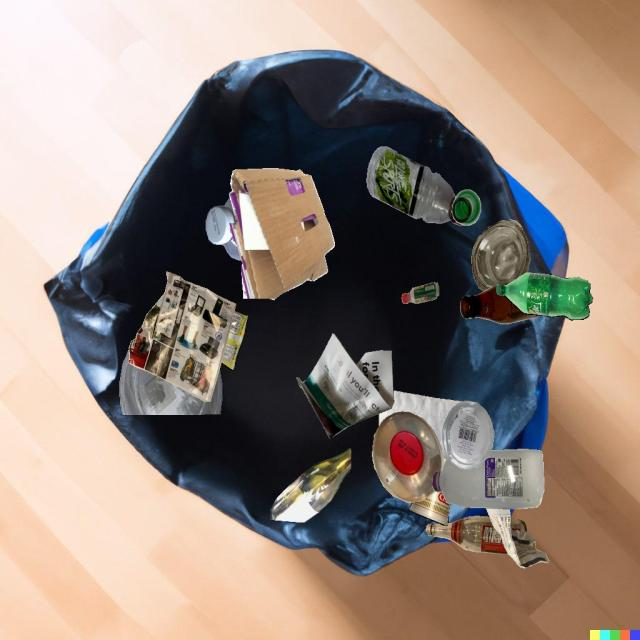cardboard: (229, 168, 335, 299)
glass: (270, 448, 351, 522), (471, 220, 531, 291), (460, 282, 540, 324), (426, 516, 509, 555), (452, 189, 481, 225)
paper: (128, 271, 236, 402), (296, 334, 394, 439), (379, 391, 462, 459), (486, 508, 549, 568), (270, 299, 275, 300)
plastic: (366, 146, 462, 226), (432, 449, 544, 509), (120, 350, 222, 415), (372, 412, 444, 503), (496, 272, 593, 320), (442, 401, 494, 470), (206, 197, 242, 261), (402, 282, 439, 304)
trash: (221, 311, 248, 371), (409, 492, 450, 526)
